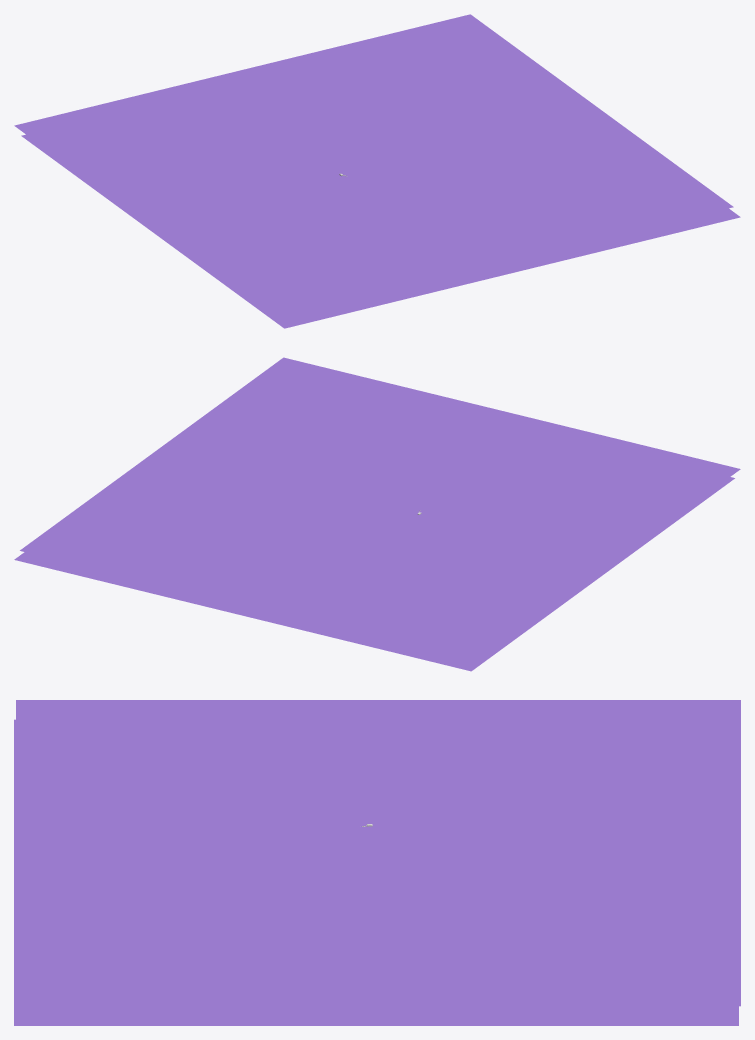
File: demoDrone.glb
3 renders of one model, top to bottom at view 1: azimuth 30°, elevation 25°; view 2: azimuth 150°, elevation 25°; view 3: azimuth 270°, elevation 25°, orthographic. The views are drawn at different scales.
Parts seen in each view (by area): view 1: Plane.001, Plane.002; view 2: Plane.001, Plane.002; view 3: Plane.001, Plane.002.
Part boxes in pixels (left/top/right/bottom): Plane.001: left=14, top=14, right=733, bottom=318; Plane.002: left=21, top=134, right=740, bottom=328; Plane.001: left=20, top=357, right=740, bottom=662; Plane.002: left=14, top=477, right=734, bottom=671; Plane.001: left=16, top=700, right=740, bottom=1006; Plane.002: left=14, top=719, right=738, bottom=1025.
Bounding box in the file's own units: 195 × 5.86 × 193.
